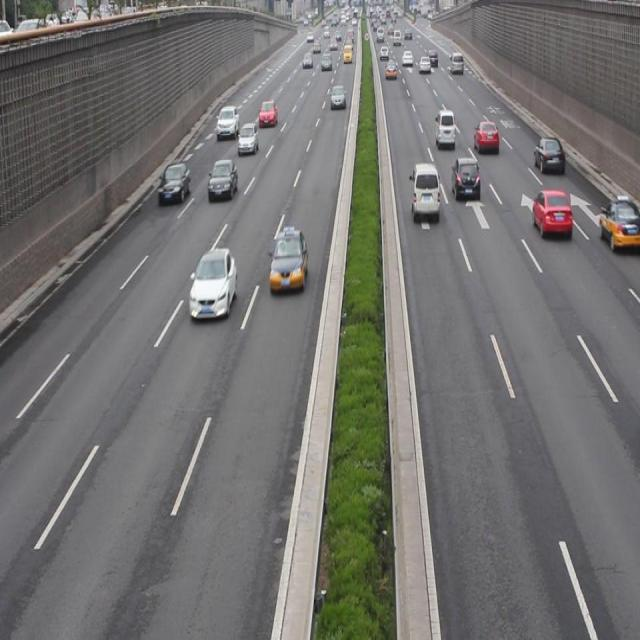car: (189, 246, 237, 324), (268, 228, 308, 295), (597, 198, 640, 250), (532, 188, 572, 240), (159, 161, 190, 206), (451, 155, 480, 203), (532, 134, 564, 174), (208, 158, 237, 202), (472, 118, 499, 156), (216, 103, 240, 139), (238, 122, 258, 158), (258, 99, 278, 127)
truck: (411, 162, 439, 222), (434, 108, 456, 150)
